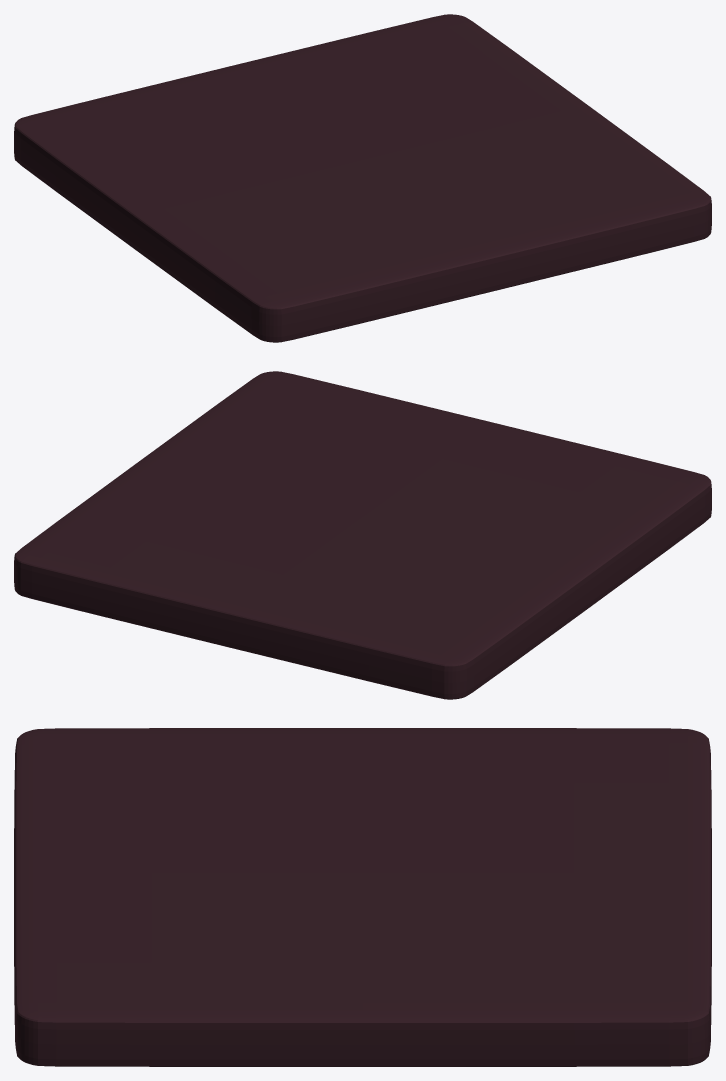
File: Floor.glb
3 views of the same model, one above another, from view 1: azimuth 30°, elevation 25°; view 2: azimuth 150°, elevation 25°; view 3: azimuth 270°, elevation 25° (orthographic). The views are drawn at different scales.
Visible parts, largest first — view 1: Floor; view 2: Floor; view 3: Floor.
Part boxes in pixels (left/top/right/bottom): Floor: left=14, top=14, right=711, bottom=342; Floor: left=14, top=371, right=711, bottom=699; Floor: left=14, top=728, right=711, bottom=1066.
Bounding box in the file's own units: 4.74 × 0.3684 × 4.74.
